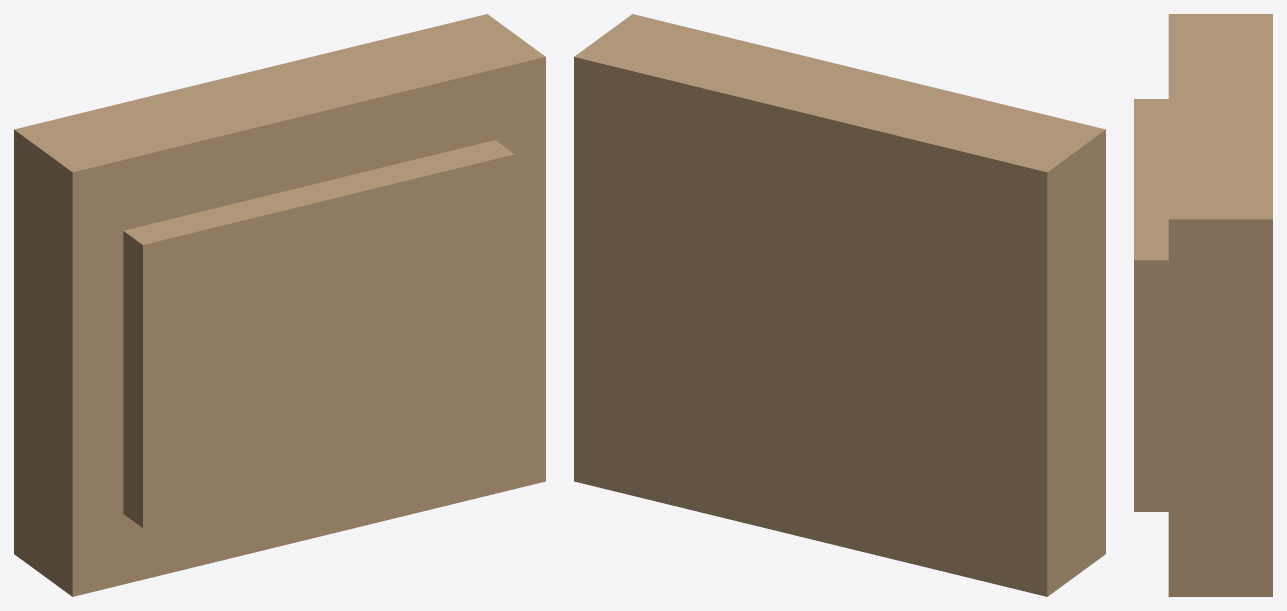
File: count_guide.glb
3 renders of one model, left to right at view 1: azimuth 30°, elevation 25°; view 2: azimuth 150°, elevation 25°; view 3: azimuth 270°, elevation 25°, orthographic. The views are drawn at different scales.
Visible parts, largest first — view 1: count_guide; view 2: count_guide; view 3: count_guide.
Boxes of the visible parts, x1,y1,x2,y2 form: count_guide: [14, 14, 545, 596]; count_guide: [574, 14, 1105, 596]; count_guide: [1134, 14, 1272, 596].
Size of the model in its own units: 0.28 by 0.24 by 0.08.
